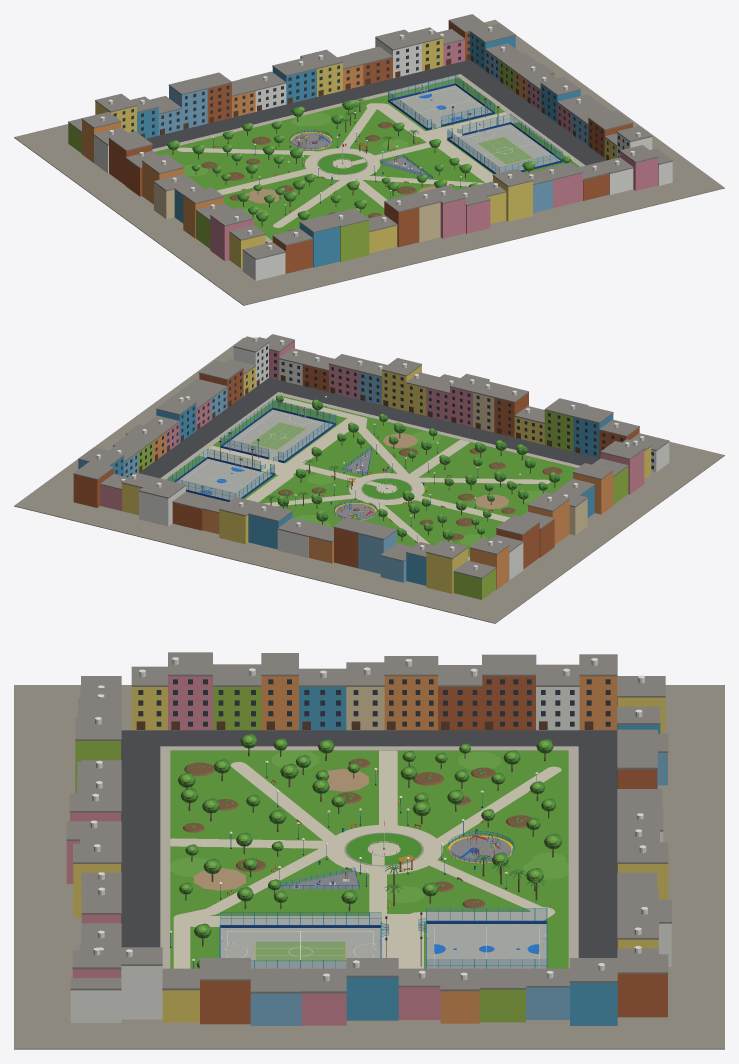
File: park.glb
3 views of the same model, one above another, from view 1: azimuth 30°, elevation 25°; view 2: azimuth 150°, elevation 25°; view 3: azimuth 270°, elevation 25° (orthographic). The views are drawn at different scales.
Parts seen in each view (by area): view 1: Edificios_Entorno, Terreno, Canchas, Caminos, Vegetacion, Rotonda_Bandera, Juegos_Infantiles, Zona_Ejercicio; view 2: Edificios_Entorno, Terreno, Canchas, Caminos, Vegetacion, Rotonda_Bandera, Juegos_Infantiles; view 3: Terreno, Edificios_Entorno, Caminos, Canchas, Vegetacion, Rotonda_Bandera, Juegos_Infantiles, Zona_Ejercicio.
Part boxes in pixels (x1=…): Edificios_Entorno: x1=68, y1=14, x2=672, y2=280; Terreno: x1=14, y1=19, x2=724, y2=305; Canchas: x1=388, y1=75, x2=562, y2=173; Caminos: x1=177, y1=103, x2=518, y2=227; Vegetacion: x1=167, y1=98, x2=570, y2=231; Rotonda_Bandera: x1=317, y1=143, x2=368, y2=174; Juegos_Infantiles: x1=289, y1=129, x2=332, y2=150; Zona_Ejercicio: x1=380, y1=154, x2=432, y2=178; Edificios_Entorno: x1=73, y1=334, x2=669, y2=599; Terreno: x1=14, y1=337, x2=724, y2=623; Canchas: x1=168, y1=399, x2=336, y2=501; Caminos: x1=199, y1=397, x2=550, y2=543; Vegetacion: x1=265, y1=395, x2=562, y2=543; Rotonda_Bandera: x1=361, y1=468, x2=412, y2=499; Juegos_Infantiles: x1=334, y1=500, x2=377, y2=520; Terreno: x1=14, y1=685, x2=724, y2=1049; Edificios_Entorno: x1=66, y1=652, x2=671, y2=1025; Caminos: x1=170, y1=750, x2=561, y2=968; Canchas: x1=219, y1=908, x2=547, y2=968; Vegetacion: x1=178, y1=733, x2=562, y2=968; Rotonda_Bandera: x1=344, y1=817, x2=423, y2=866; Juegos_Infantiles: x1=447, y1=831, x2=514, y2=863; Zona_Ejercicio: x1=268, y1=867, x2=359, y2=889.
Bounding box in the file's own units: 220 × 17.42 × 182.
